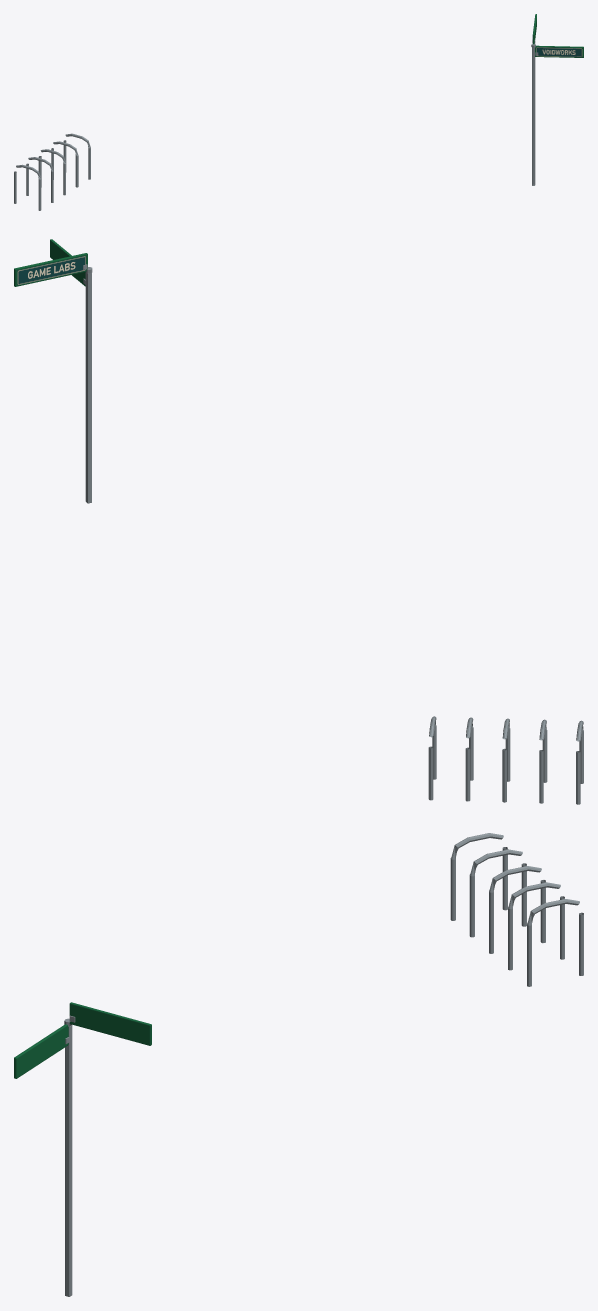
The model's file is voidworks.glb.
3 renders of one model, top to bottom at view 1: azimuth 30°, elevation 25°; view 2: azimuth 150°, elevation 25°; view 3: azimuth 270°, elevation 25°, orthographic. The views are drawn at different scales.
Parts seen in each view (by area): view 1: geometry_0b2425510f09f, geometry_0, geometry_2, geometry_1; view 2: geometry_0b2425510f09f, geometry_0, geometry_3, geometry_1; view 3: geometry_0b2425510f09f, geometry_1, geometry_0.
Boxes of the visible parts, x1,y1,x2,y2 form: geometry_0b2425510f09f: [14, 133, 90, 210]; geometry_0: [531, 40, 538, 185]; geometry_2: [536, 47, 582, 57]; geometry_1: [533, 14, 583, 57]; geometry_0b2425510f09f: [428, 716, 583, 804]; geometry_0: [83, 264, 92, 503]; geometry_3: [17, 255, 85, 285]; geometry_1: [14, 239, 87, 286]; geometry_0b2425510f09f: [450, 833, 583, 986]; geometry_1: [14, 1002, 151, 1078]; geometry_0: [64, 1015, 75, 1296].
Bounding box in the file's own units: 10.4 × 3.37 × 5.91.
Materials: 5 (2 with a texture image).
